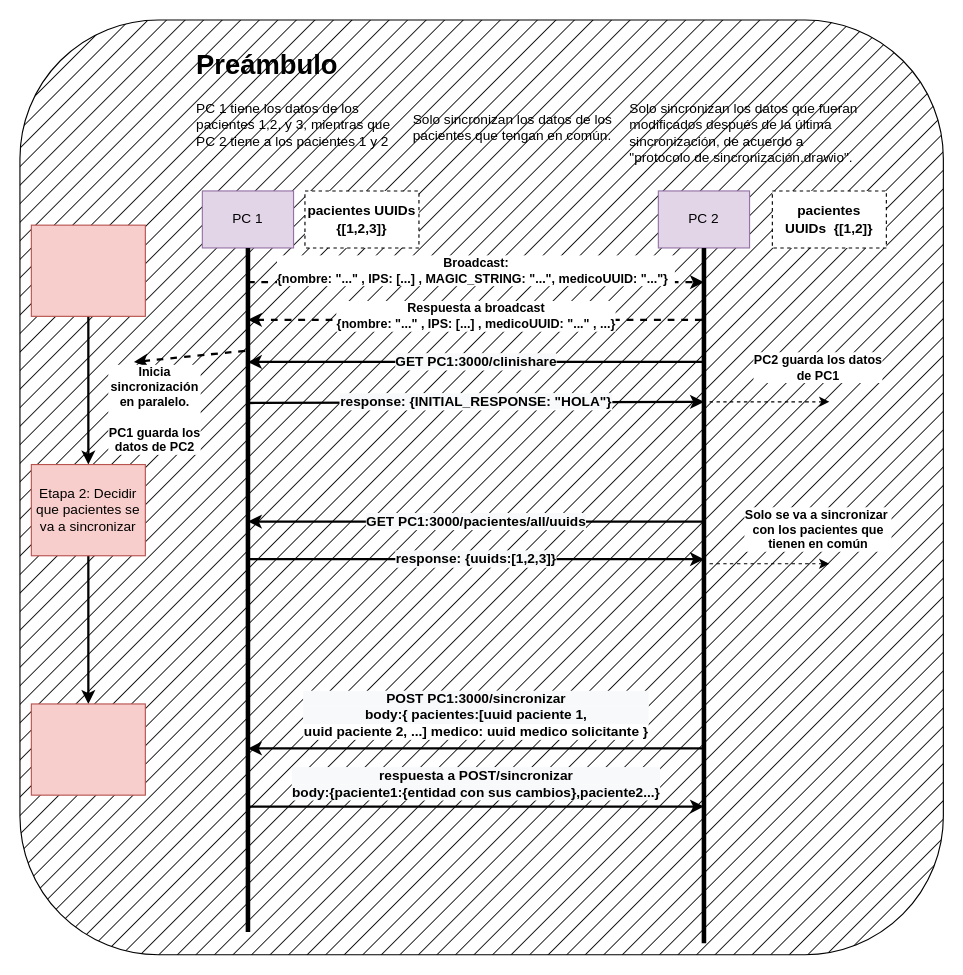
This 963x975 diagram has some shape labels left out. The box of each missing label's shape, as (x1, y1, x2, y2) in pixels:
Etapa 1: Conectarse: (30, 224, 145, 316)
Etapa 3: Sincronizar: (30, 703, 145, 795)
